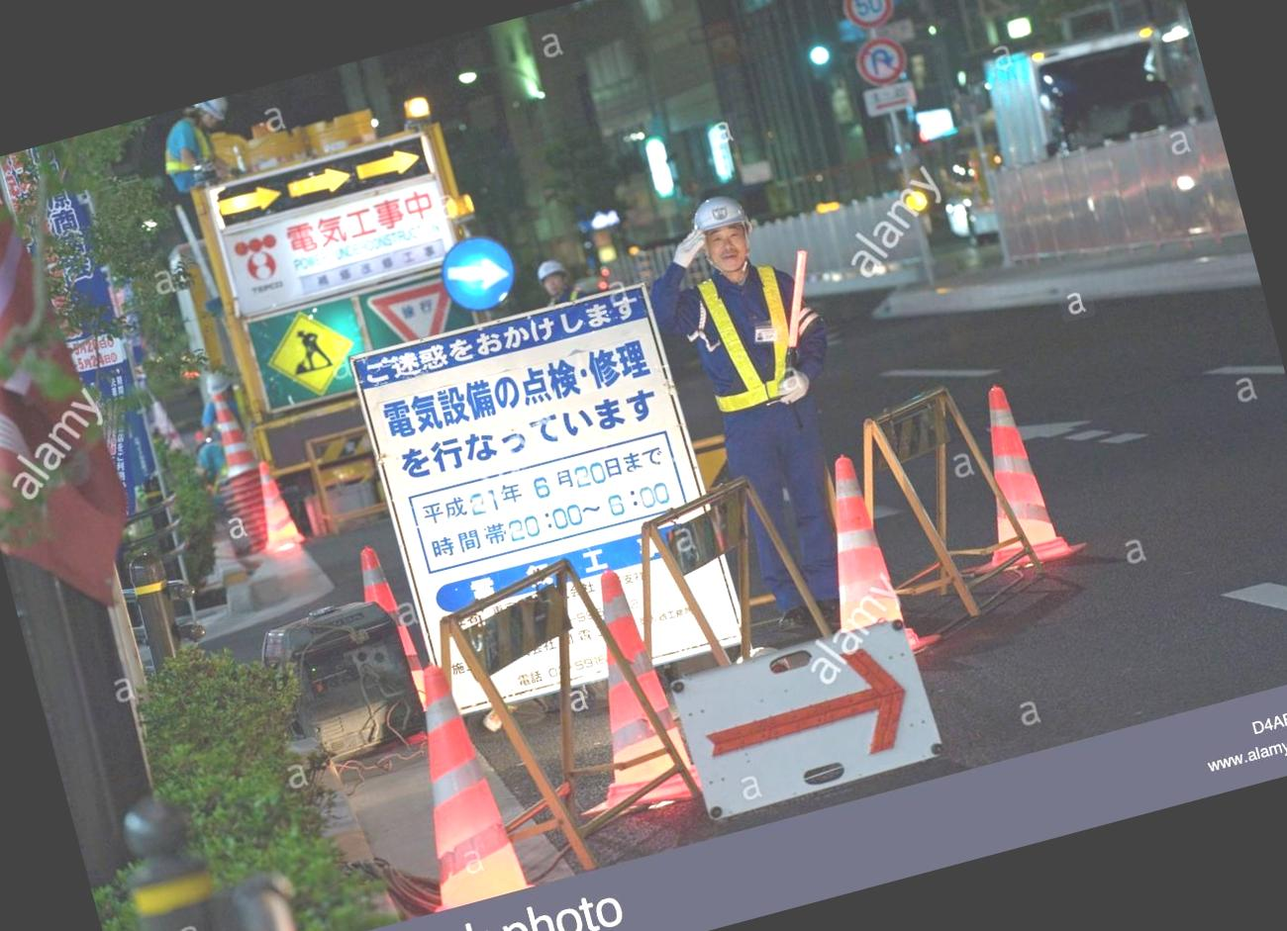helmet: (674, 187, 756, 250)
person: (649, 179, 893, 637)
